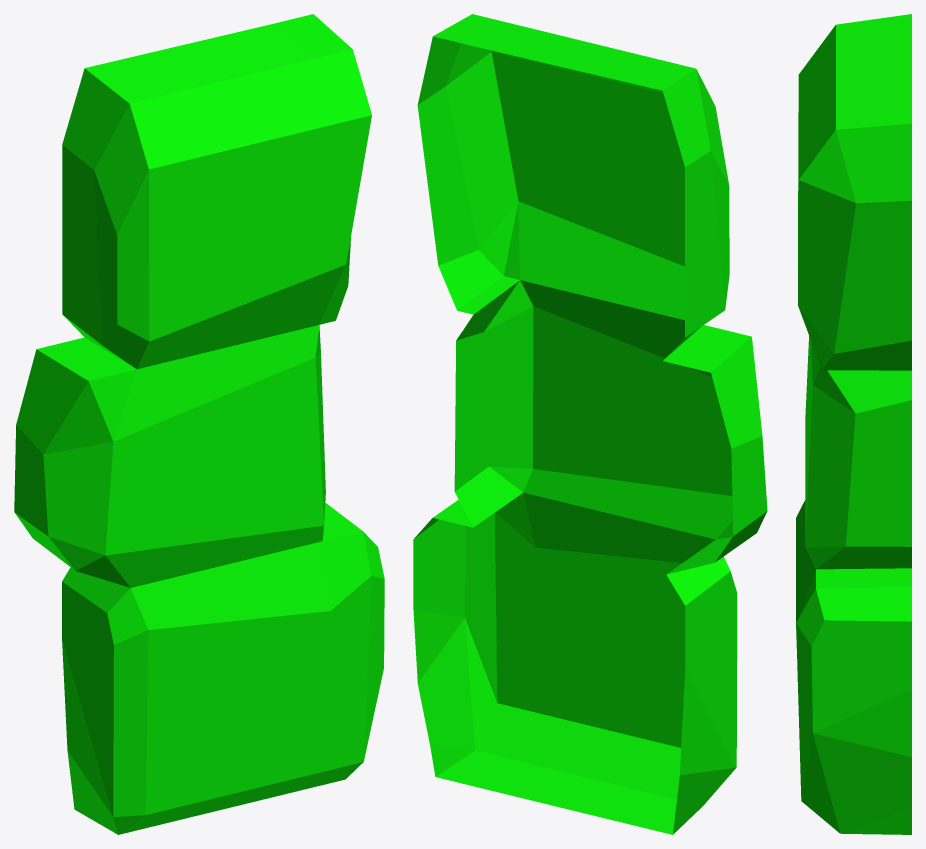
Rendered from SM_Wall_Decor_Middle_Stone_Out_1m.fbx.
3 renders of one model, left to right at view 1: azimuth 30°, elevation 25°; view 2: azimuth 150°, elevation 25°; view 3: azimuth 270°, elevation 25°, orthographic. The views are drawn at different scales.
Parts seen in each view (by area): view 1: wall-decor-middle-stone-out-1m; view 2: wall-decor-middle-stone-out-1m; view 3: wall-decor-middle-stone-out-1m.
Boxes of the visible parts, x1,y1,x2,y2 form: wall-decor-middle-stone-out-1m: [14, 14, 384, 834]; wall-decor-middle-stone-out-1m: [413, 14, 767, 834]; wall-decor-middle-stone-out-1m: [796, 14, 911, 834].
Bounding box in the file's own units: 0.4576 × 1.01 × 0.149.
